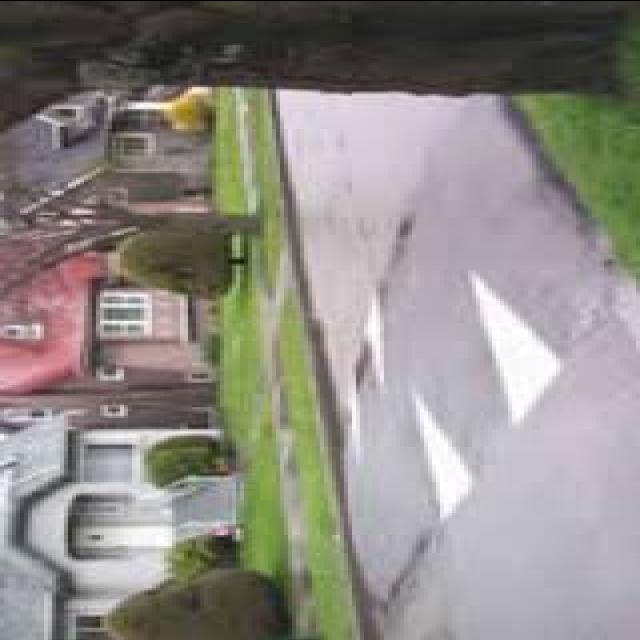speedbreaker: (343, 136, 579, 593)
